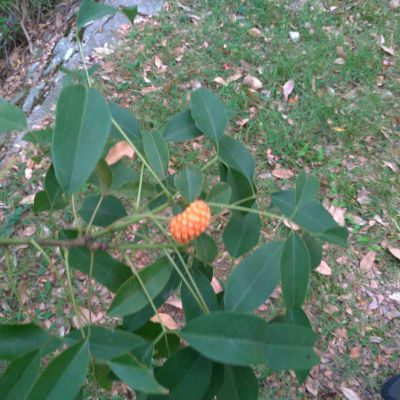eggs: (167, 195, 215, 244)
